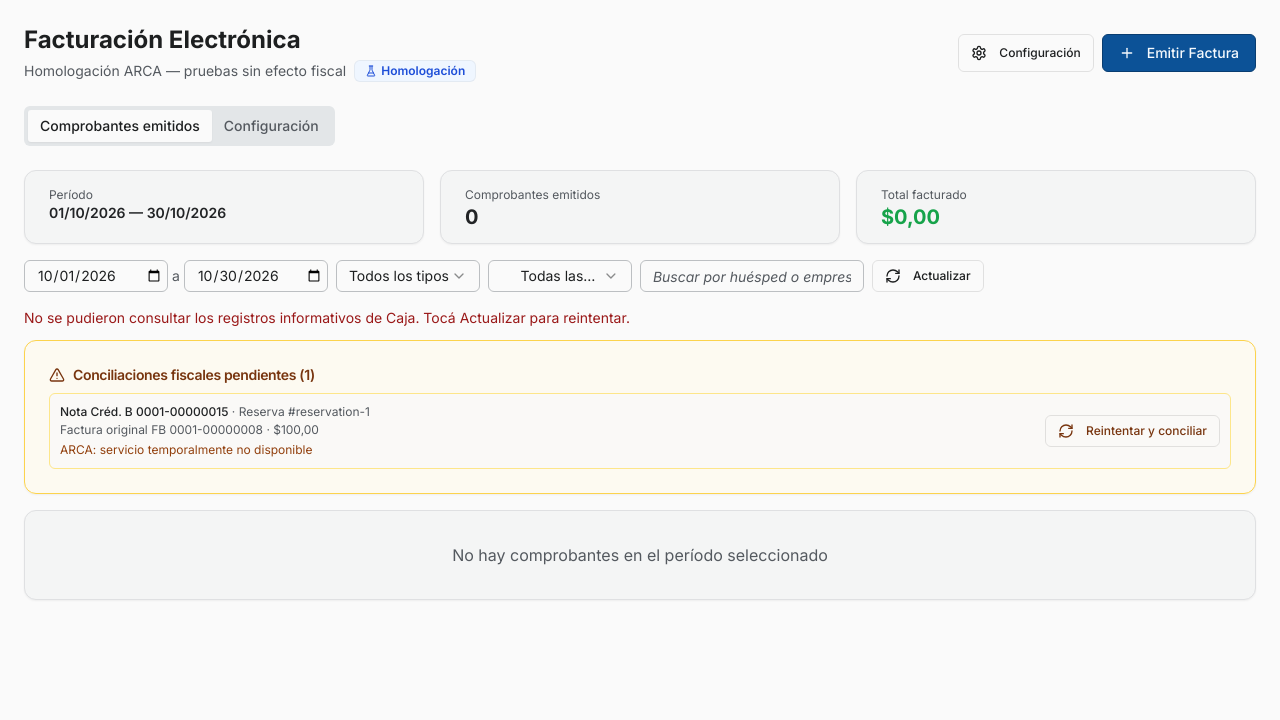
Scenario: cola de reintentos ARCA › muestra y actualiza el error exacto de NC pendiente (grupo=false)
Expected: the text "ARCA: servicio temporalmente no disponible" is shown, left=60, top=442, right=312, bottom=457
Expected: the text "· Reserva #reservation-1" is shown, left=228, top=404, right=370, bottom=419
Step 1. Click the button with test id "btn-reconcile-credit-note-90" → (1133, 431), box left=1045, top=415, right=1220, bottom=447
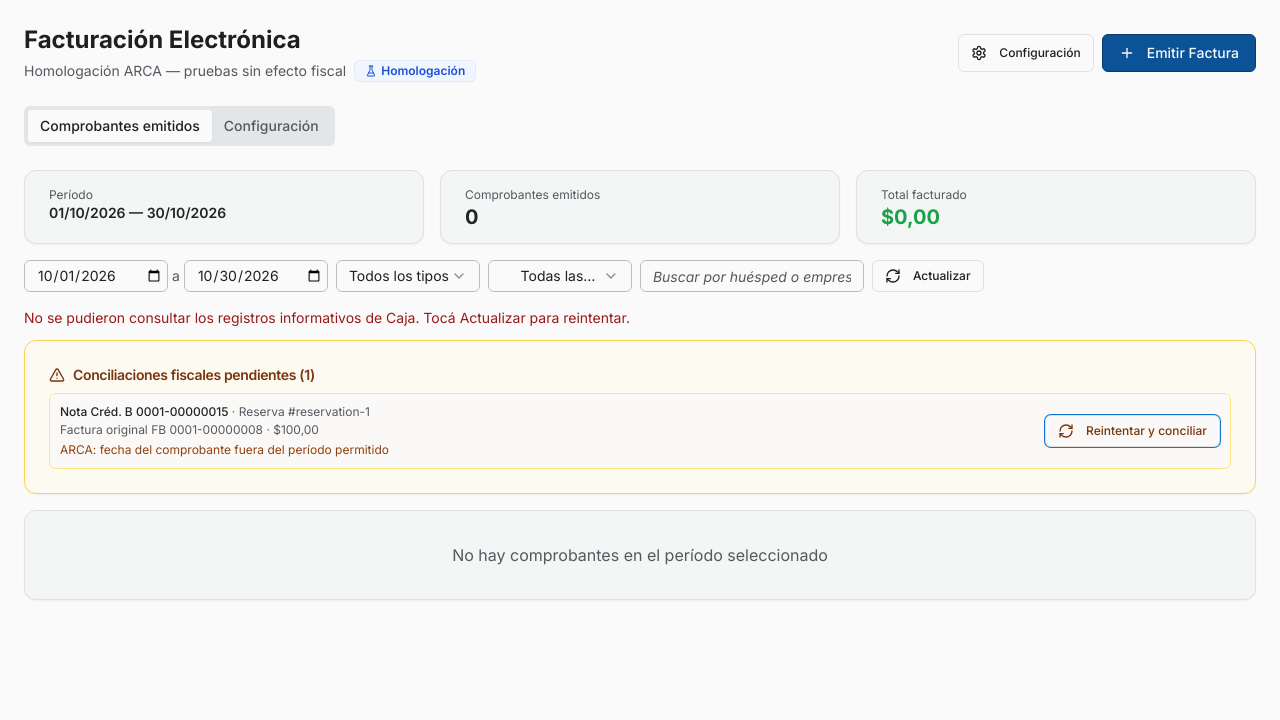
Expected: the text "ARCA: fecha del comprobante fuera del período permitido" is shown, left=60, top=442, right=389, bottom=458
